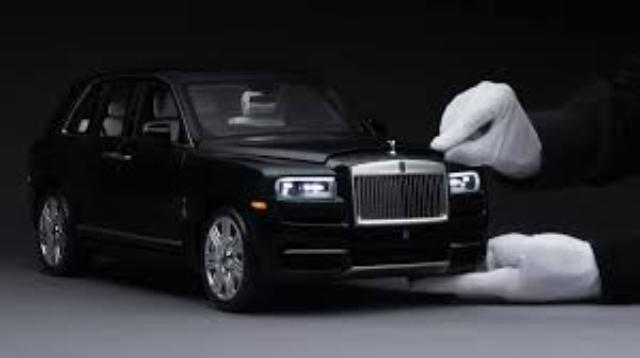rolls-royce: (28, 68, 486, 310)
